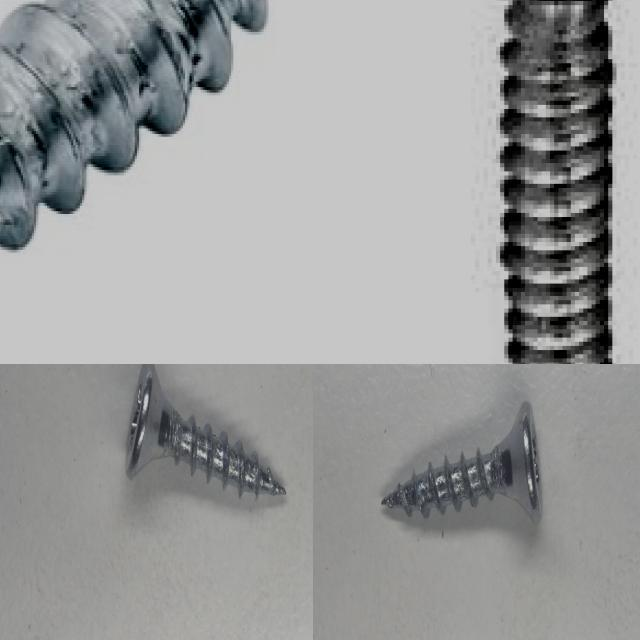Screw: (0, 0, 266, 247), (508, 0, 612, 364), (126, 364, 285, 496), (381, 399, 544, 527)
